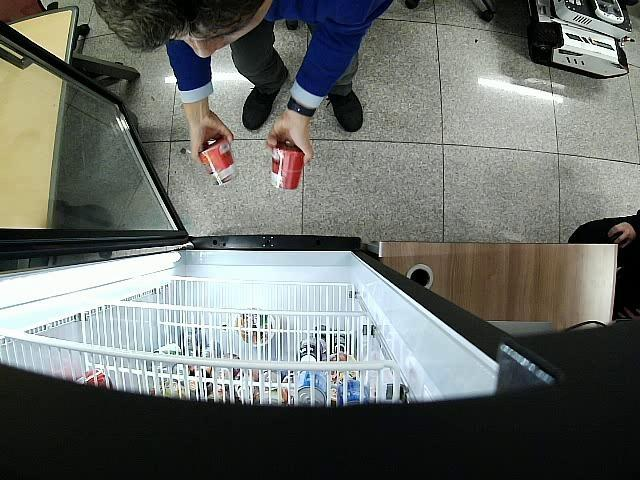02_shinRamen_S: (200, 138, 239, 185), (269, 144, 304, 190)
